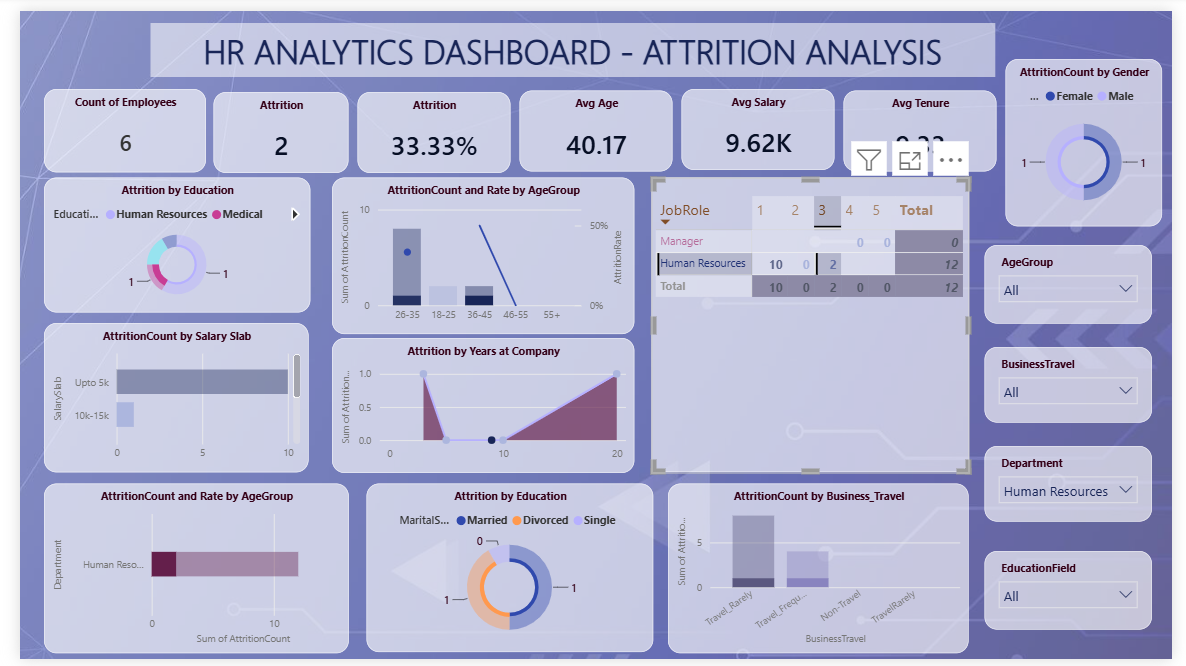

Layout of this report page (visuals, bound fields, positions):
{"tool":"powerbi","page":{"name":"Page 1","canvas":[1280,720],"ordinal":0},"visuals":[{"type":"textbox","box":[145.7,12.9,938.6,60],"z":0},{"type":"cardVisual","title":"Count of Employees","fields":{"Data":["Count(HR_Analytics.EmpID)"]},"box":[27.1,87.1,180,92.9],"z":1000},{"type":"cardVisual","title":"Attrition","fields":{"Data":["Sum(HR_Analytics.AttritionCount)"]},"box":[215.7,90,150,90],"z":2000},{"type":"cardVisual","title":"Attrition","fields":{"Data":["HR_Analytics.AttritionRate"]},"box":[375.7,90,170,90],"z":3000},{"type":"cardVisual","title":"Avg Age","fields":{"Data":["Avg(HR_Analytics.Age)"]},"box":[554.3,88.6,170,90],"z":4000},{"type":"cardVisual","title":"Avg Salary","fields":{"Data":["Avg(HR_Analytics.MonthlyIncome)"]},"box":[734.3,87.1,170,90],"z":5000},{"type":"cardVisual","title":"Avg Tenure","fields":{"Data":["Avg(HR_Analytics.YearsAtCompany)"]},"box":[914.3,88.6,170,90],"z":6000},{"type":"donutChart","title":"AttritionCount by Gender","fields":{"Category":["HR_Analytics.Gender"],"Y":["Sum(HR_Analytics.AttritionCount)"]},"box":[1094.3,52.9,174.3,185.7],"z":7000},{"type":"donutChart","title":"Attrition by Education","fields":{"Category":["HR_Analytics.EducationField","HR_Analytics.YearsAtCompany"],"Y":["Sum(HR_Analytics.AttritionCount)"]},"box":[27.1,185.7,295.7,150],"z":8000},{"type":"lineStackedColumnComboChart","title":"AttritionCount and Rate by AgeGroup","fields":{"Category":["HR_Analytics.AgeGroup"],"Y":["Sum(HR_Analytics.AttritionCount)"],"Y2":["HR_Analytics.AttritionRate"]},"box":[347.1,185.7,335.7,174.3],"z":9000},{"type":"pivotTable","fields":{"Rows":["HR_Analytics.JobRole"],"Columns":["HR_Analytics.JobLevel"],"Values":["Sum(HR_Analytics.AttritionCount)"]},"box":[701.4,185.7,352.9,327.1],"z":10000},{"type":"barChart","title":"AttritionCount by Salary Slab","fields":{"Y":["Sum(HR_Analytics.AttritionCount)"],"Category":["HR_Analytics.SalarySlab"]},"box":[27.1,347.1,294.3,165.7],"z":11000},{"type":"areaChart","title":"Attrition by Years at Company","fields":{"Y":["Sum(HR_Analytics.AttritionCount)"],"Category":["HR_Analytics.YearsAtCompany"]},"box":[347.1,362.9,335.7,150],"z":12000},{"type":"barChart","title":"AttritionCount and Rate by AgeGroup","fields":{"Y":["Sum(HR_Analytics.AttritionCount)"],"Category":["HR_Analytics.Department"]},"box":[27.1,524.3,338.6,188.6],"z":12001},{"type":"donutChart","title":"Attrition by Education","fields":{"Y":["Sum(HR_Analytics.AttritionCount)"],"Category":["HR_Analytics.MaritalStatus"]},"box":[385.7,525.7,318.6,187.1],"z":12002},{"type":"columnChart","title":"AttritionCount by Business_Travel","fields":{"Category":["HR_Analytics.BusinessTravel"],"Y":["Sum(HR_Analytics.AttritionCount)"]},"box":[720,524.3,334.3,188.6],"z":12003},{"type":"slicer","fields":{"Values":["HR_Analytics.AgeGroup"]},"box":[1071.4,260,185.7,87.1],"z":12004},{"type":"slicer","fields":{"Values":["HR_Analytics.BusinessTravel"]},"box":[1071.4,372.9,185.7,84.3],"z":12005},{"type":"slicer","fields":{"Values":["HR_Analytics.Department"]},"box":[1071.4,482.9,185.7,84.3],"z":12006},{"type":"slicer","fields":{"Values":["HR_Analytics.EducationField"]},"box":[1071.4,600,185.7,87.1],"z":12007}]}

Visuals, with their boxes in screenshot pixels (x1, y1, x2, y2), scaled from the page's 1280x720 canvas onto the 1186x666 screenshot:
textbox: box=[135, 12, 1005, 67]
"Count of Employees" cardVisual: box=[25, 81, 192, 166]
"Attrition" cardVisual: box=[200, 83, 339, 166]
"Attrition" cardVisual: box=[348, 83, 506, 166]
"Avg Age" cardVisual: box=[514, 82, 671, 165]
"Avg Salary" cardVisual: box=[680, 81, 838, 164]
"Avg Tenure" cardVisual: box=[847, 82, 1005, 165]
"AttritionCount by Gender" donutChart: box=[1014, 49, 1175, 221]
"Attrition by Education" donutChart: box=[25, 172, 299, 311]
"AttritionCount and Rate by AgeGroup" lineStackedColumnComboChart: box=[322, 172, 633, 333]
pivotTable - HR_Analytics.JobRole x HR_Analytics.JobLevel: box=[650, 172, 977, 474]
"AttritionCount by Salary Slab" barChart: box=[25, 321, 298, 474]
"Attrition by Years at Company" areaChart: box=[322, 336, 633, 474]
"AttritionCount and Rate by AgeGroup" barChart: box=[25, 485, 339, 659]
"Attrition by Education" donutChart: box=[357, 486, 653, 659]
"AttritionCount by Business_Travel" columnChart: box=[667, 485, 977, 659]
slicer - HR_Analytics.AgeGroup: box=[993, 240, 1165, 321]
slicer - HR_Analytics.BusinessTravel: box=[993, 345, 1165, 423]
slicer - HR_Analytics.Department: box=[993, 447, 1165, 525]
slicer - HR_Analytics.EducationField: box=[993, 555, 1165, 636]
